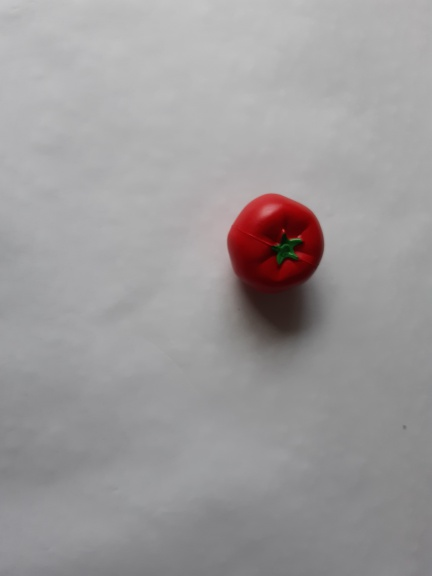tomato: (220, 188, 335, 304)
